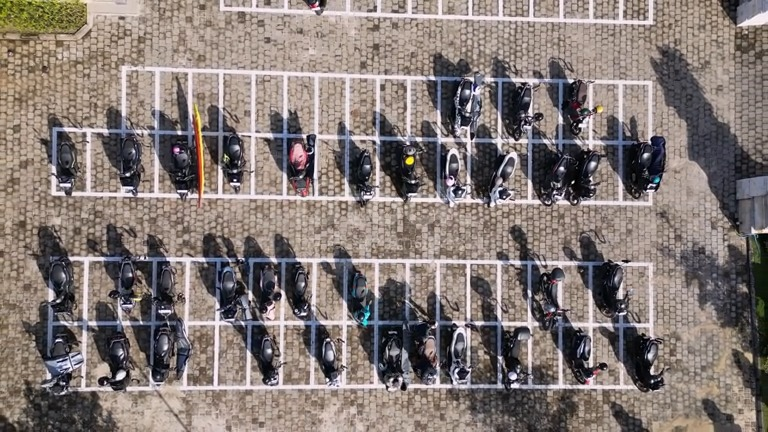car: (41, 334, 84, 394), (561, 79, 603, 135), (628, 136, 665, 198), (534, 267, 569, 329), (98, 332, 132, 390), (569, 330, 606, 383), (596, 260, 630, 317), (510, 82, 543, 140), (634, 333, 667, 391), (379, 330, 409, 391), (541, 153, 575, 205), (288, 134, 316, 196), (569, 150, 600, 205), (110, 255, 139, 313), (503, 327, 530, 389), (153, 262, 182, 319), (489, 152, 519, 206), (413, 320, 438, 384), (47, 257, 75, 314), (443, 149, 470, 206), (171, 139, 196, 199), (218, 266, 245, 321), (118, 135, 142, 195), (448, 324, 471, 385), (398, 143, 422, 201), (222, 134, 245, 192), (355, 149, 377, 206), (259, 263, 281, 320), (259, 333, 283, 385), (151, 324, 172, 383), (54, 141, 76, 195), (321, 337, 345, 386), (349, 272, 370, 326), (175, 318, 192, 379), (293, 265, 309, 318)
